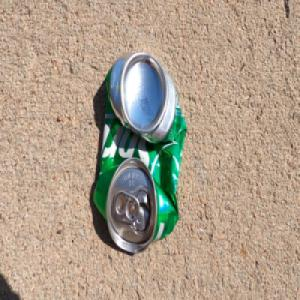SodaCan: (91, 49, 188, 257)
